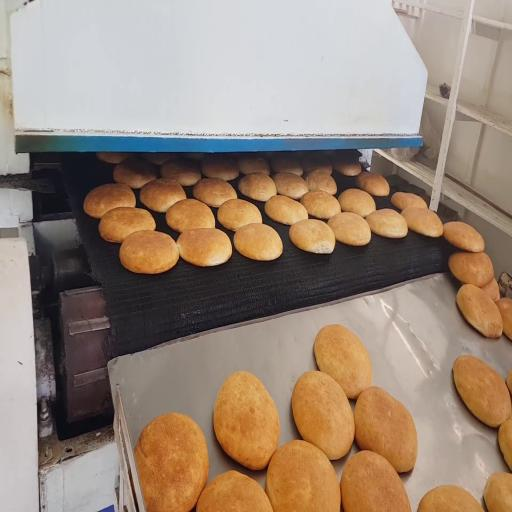bread: (134, 413, 209, 511), (214, 372, 279, 470), (292, 371, 354, 459), (354, 387, 417, 472), (266, 440, 340, 511), (314, 325, 372, 399), (341, 451, 411, 511), (453, 355, 511, 427), (196, 471, 272, 511), (120, 231, 179, 274), (456, 284, 502, 338), (177, 229, 232, 266), (99, 207, 155, 243), (234, 222, 282, 260), (84, 184, 135, 218), (418, 485, 483, 511), (166, 199, 215, 233), (449, 252, 494, 287), (140, 178, 186, 212), (289, 220, 335, 254), (328, 212, 370, 246), (218, 199, 262, 231), (114, 157, 157, 189), (193, 178, 237, 207), (444, 221, 484, 252), (402, 207, 443, 237), (265, 196, 307, 225), (366, 209, 407, 238), (238, 173, 277, 201), (301, 191, 340, 219), (338, 189, 375, 217), (484, 473, 511, 511), (161, 161, 201, 186), (201, 155, 238, 180), (273, 173, 308, 199), (305, 169, 337, 195), (357, 173, 389, 196), (271, 154, 303, 175), (498, 419, 511, 470), (237, 155, 270, 175), (302, 152, 332, 174), (391, 192, 427, 210), (496, 298, 511, 339), (331, 156, 361, 176), (481, 278, 500, 301), (143, 153, 178, 165), (96, 153, 132, 164), (184, 153, 204, 160), (506, 371, 511, 393)
